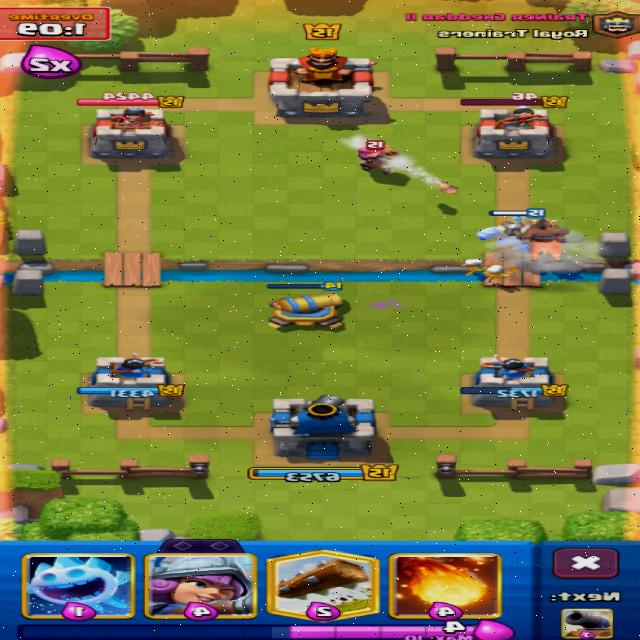Enemy-Firecracker: (359, 141, 399, 175)
Enemy-KingTower: (269, 48, 373, 117)
Enemy-PrincessTower: (92, 107, 174, 164), (474, 107, 557, 160)
Player-Cannon: (271, 293, 341, 327)
Player-HogRider: (518, 219, 569, 260)
Player-IceGolem: (477, 217, 530, 250)
Player-KingTower-Activated: (269, 395, 376, 460)
Player-PrincessTower: (461, 355, 567, 410), (79, 353, 172, 405)
Player-Skeleton: (486, 265, 516, 283), (465, 259, 483, 275)
